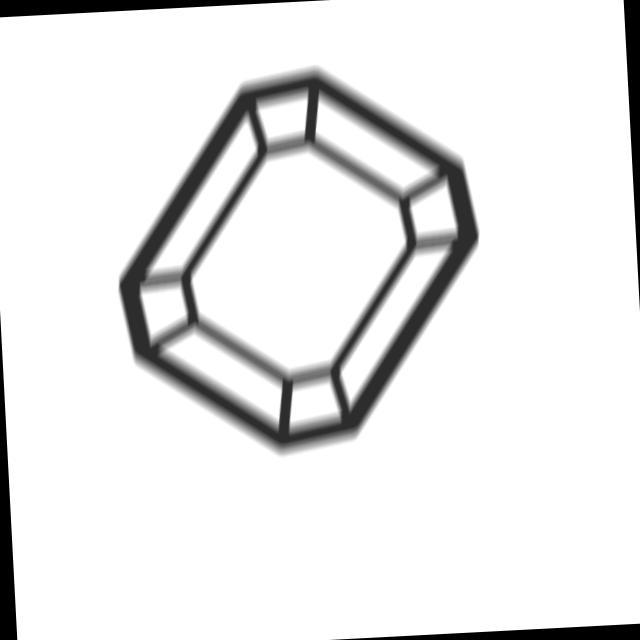emerald: (99, 46, 502, 472)
